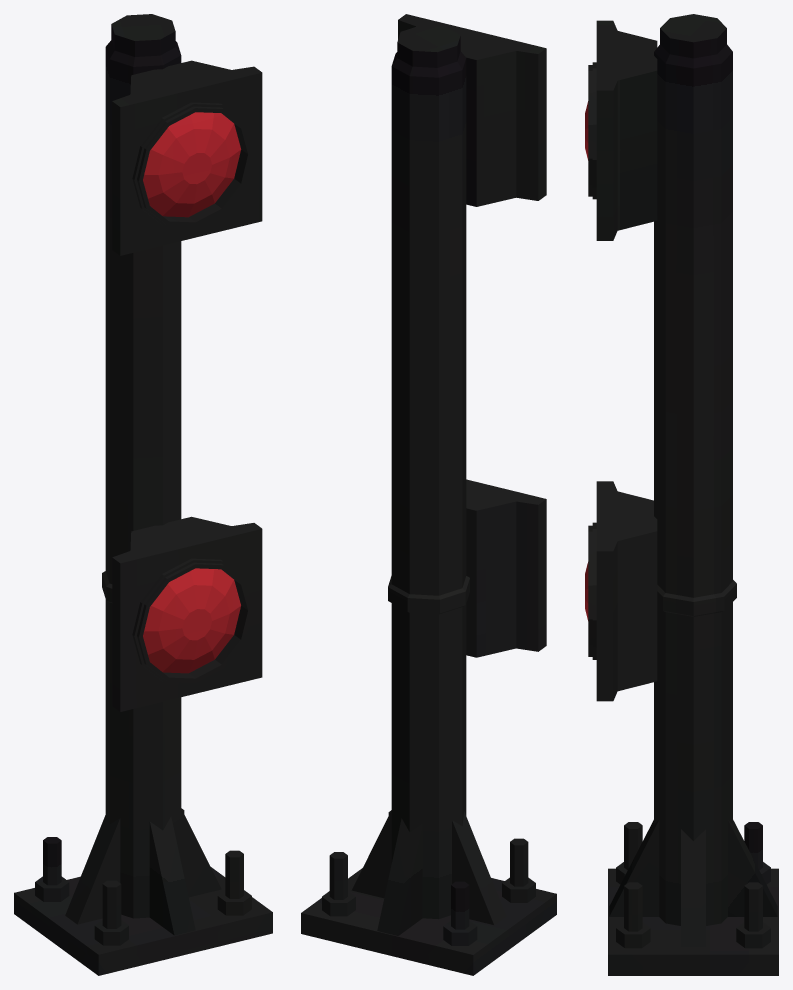
Rendered from Highway_Segment_TrafficBarrier02.fbx.
3 views of the same model, side by side, from view 1: azimuth 30°, elevation 25°; view 2: azimuth 150°, elevation 25°; view 3: azimuth 270°, elevation 25° (orthographic). The views are drawn at different scales.
Parts seen in each view (by area): view 1: SM_City_Highway_TrafficBarrier_01a_02.mo; view 2: SM_City_Highway_TrafficBarrier_01a_02.mo; view 3: SM_City_Highway_TrafficBarrier_01a_02.mo.
Boxes of the visible parts, x1,y1,x2,y2 form: SM_City_Highway_TrafficBarrier_01a_02.mo: (14,14,272,975); SM_City_Highway_TrafficBarrier_01a_02.mo: (301,14,556,975); SM_City_Highway_TrafficBarrier_01a_02.mo: (585,14,778,975).
Bounding box in the file's own units: 54.8 × 269 × 52.3.
